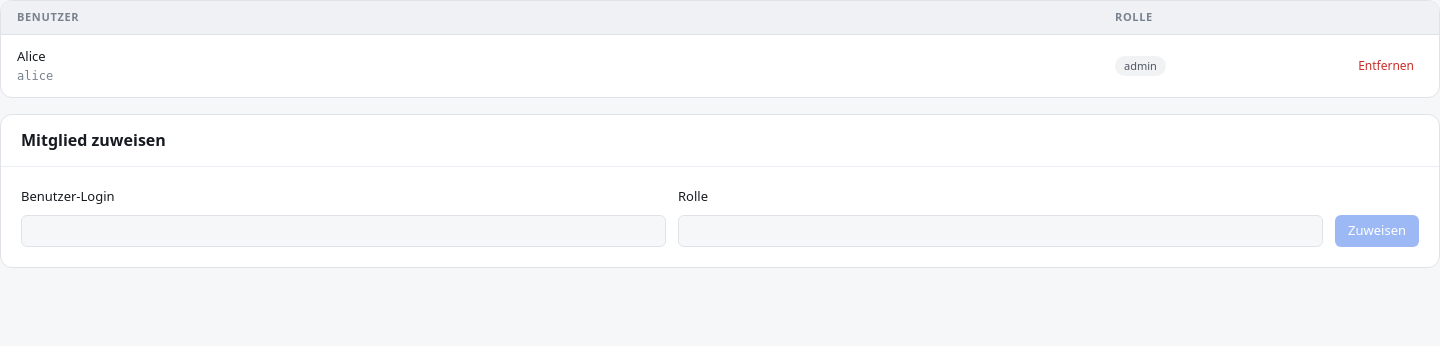
WorkspaceMembers › aborts assign when a before-save hook cancels
This screenshot has width=1440, height=346.
Type "bob" into the field named "memberUserId".
click(344, 231); type("bob")  # box [34,216,653,246]
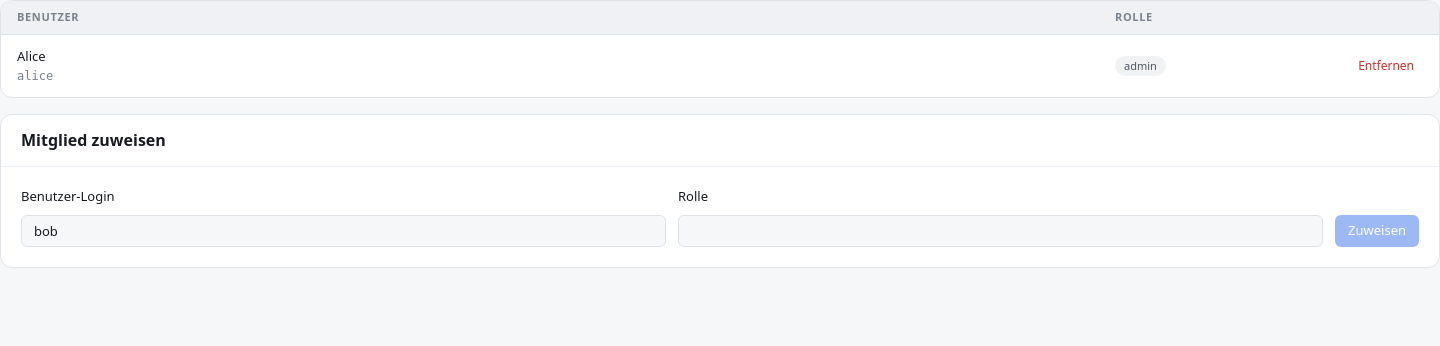
Type "support" into the field named "memberRole".
click(1000, 231); type("support")  # box [691,216,1310,246]
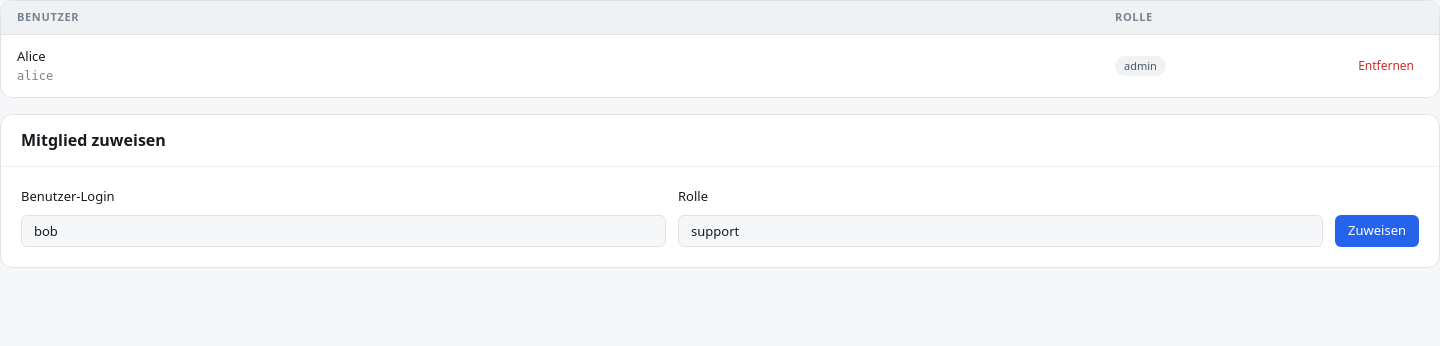
Submit the form with class "members__form", box [21,187,1419,247]
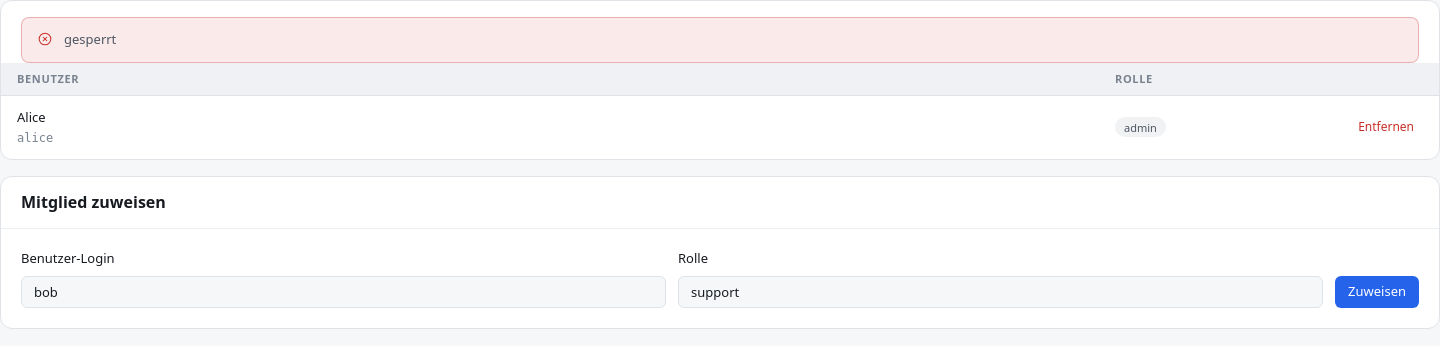
Expected: the text "gesperrt" is shown, [64,30,116,48]
